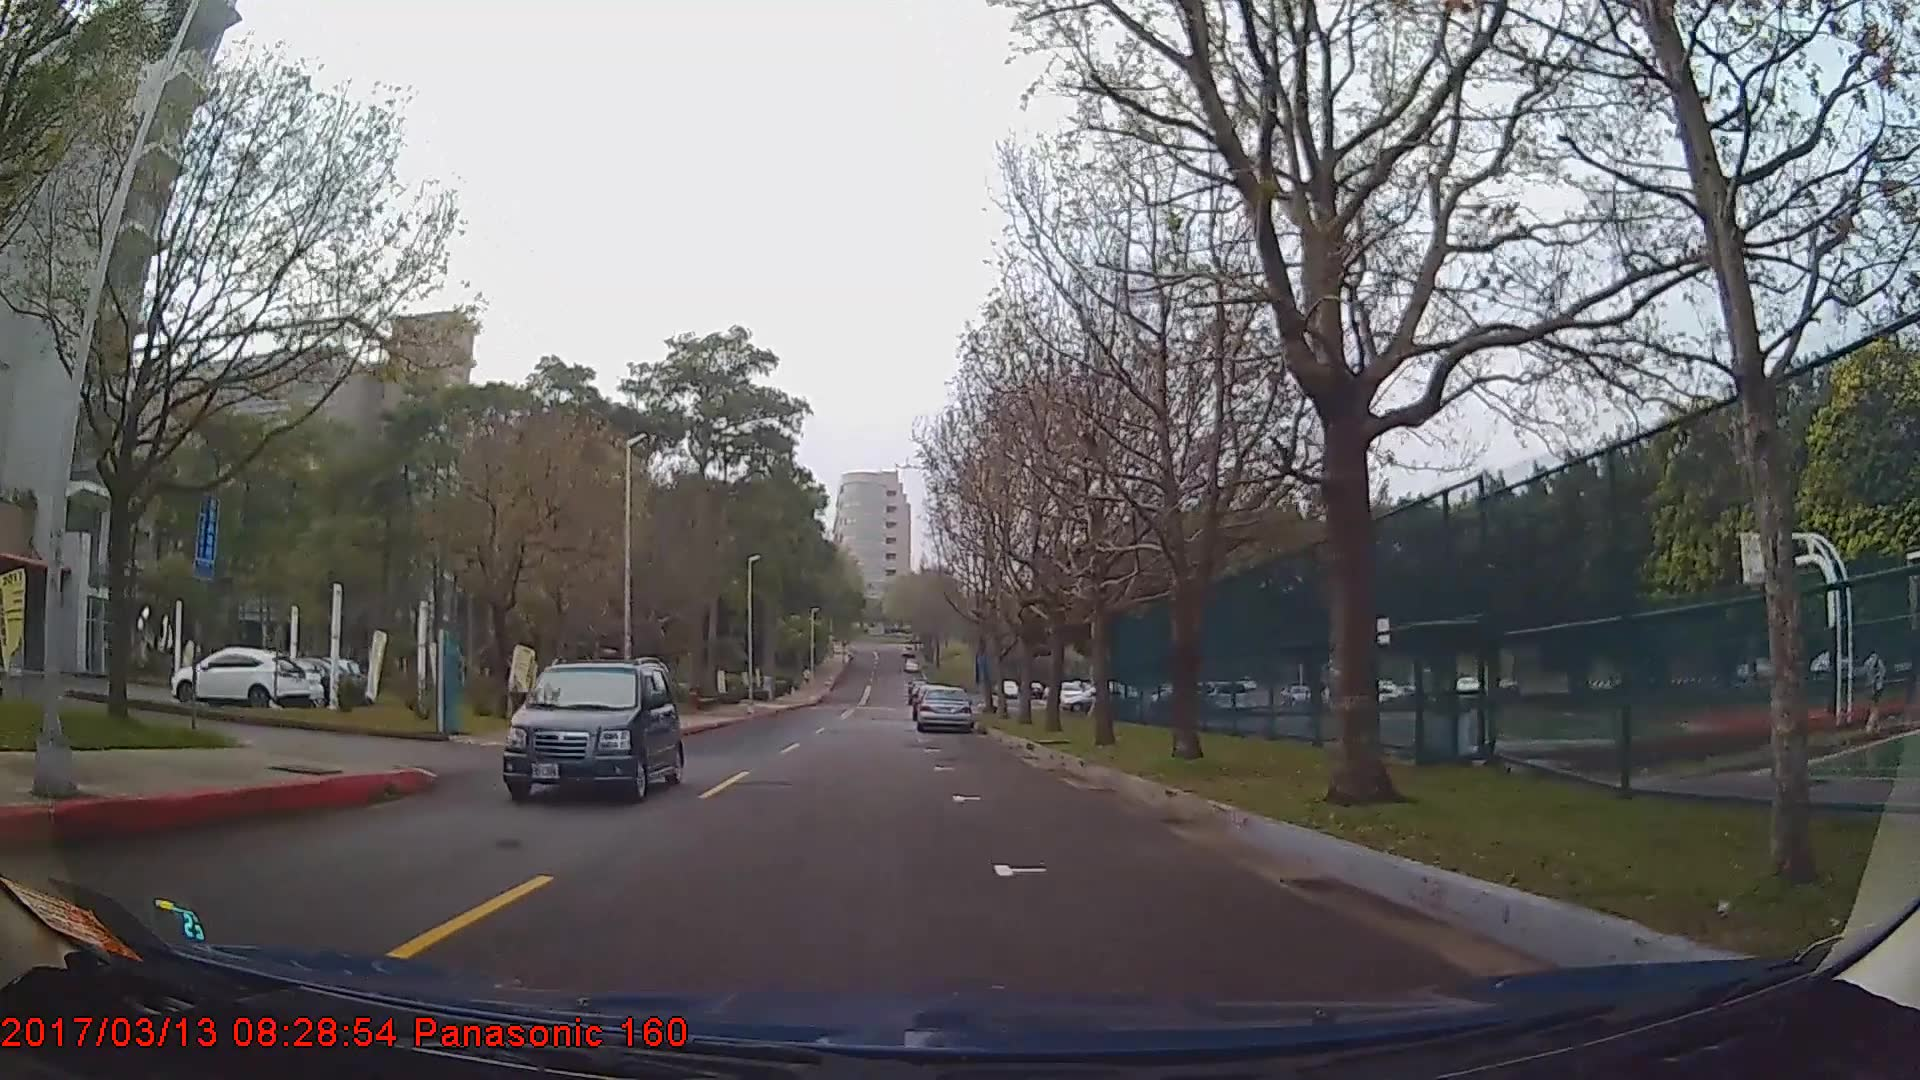vehicle: (500, 659, 683, 806), (170, 645, 309, 711), (914, 684, 973, 735)
